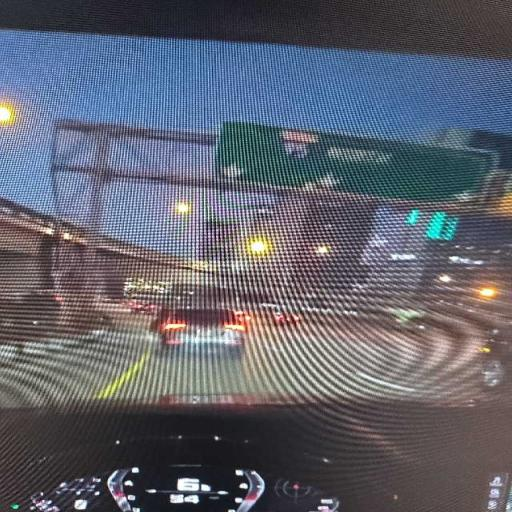car: (153, 307, 247, 357), (0, 290, 63, 340), (478, 324, 511, 388), (265, 305, 301, 325), (128, 296, 156, 314)
lane: (0, 314, 482, 406)
